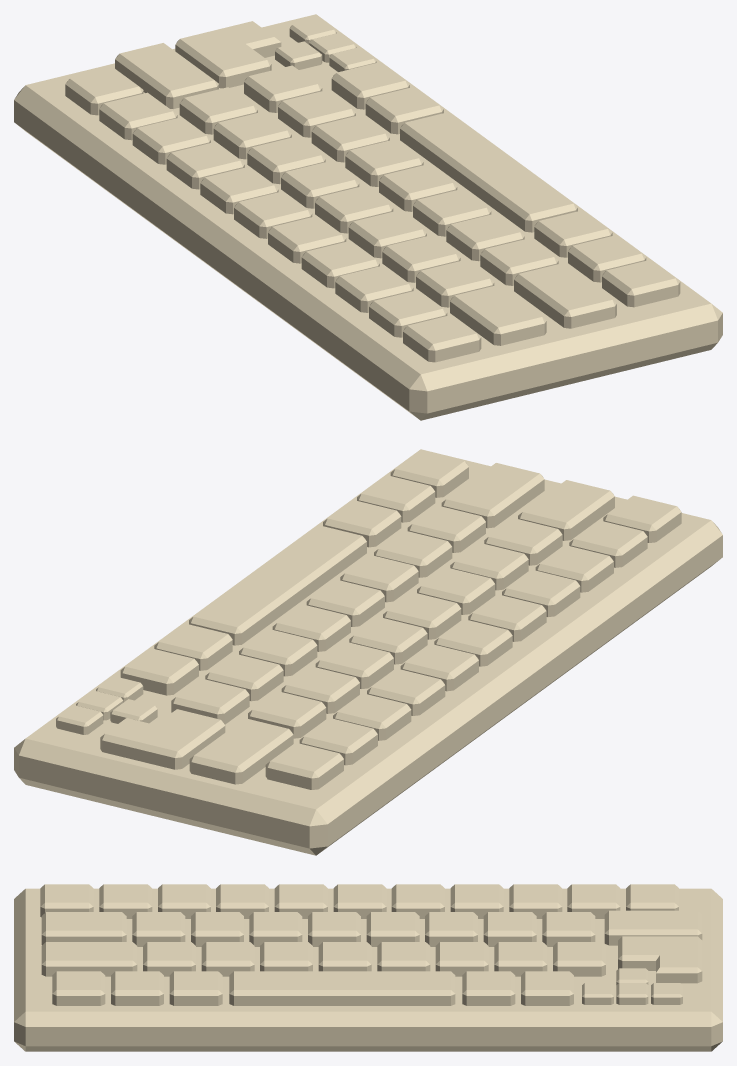
File: SM_Keyboard.fbx
3 renders of one model, top to bottom at view 1: azimuth 30°, elevation 25°; view 2: azimuth 150°, elevation 25°; view 3: azimuth 270°, elevation 25°, orthographic. The views are drawn at different scales.
Parts seen in each view (by area): view 1: Cube.017; view 2: Cube.017; view 3: Cube.017.
Part boxes in pixels (x1,y1,x2,y2): Cube.017: [14, 14, 722, 420]; Cube.017: [14, 449, 722, 855]; Cube.017: [14, 884, 722, 1051].
Bounding box in the file's own units: 63.52 × 28.16 × 5.38.
